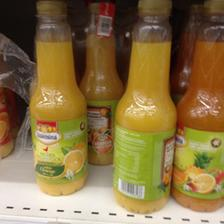Saft: (112, 0, 176, 212), (29, 0, 88, 196), (172, 0, 220, 212)
